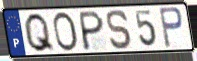5: (134, 9, 158, 49)
O: (51, 11, 80, 53)
P: (158, 6, 185, 50), (79, 9, 105, 52)
Q: (23, 11, 57, 54)
S: (105, 9, 134, 51)
